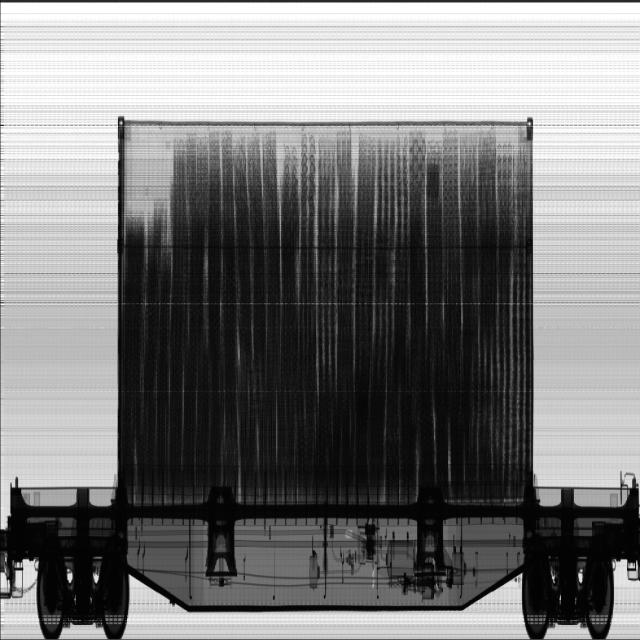table ware: (217, 130, 411, 476), (96, 132, 185, 471)
